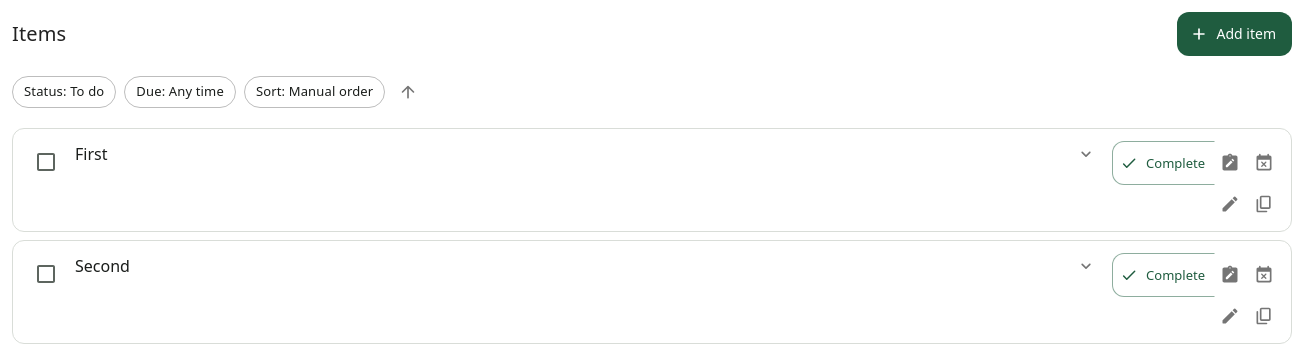
Test: ItemsSection › expanding one row collapses whichever was open
Click the button "First". click: (91, 154)
box: [71,142,1100,166]
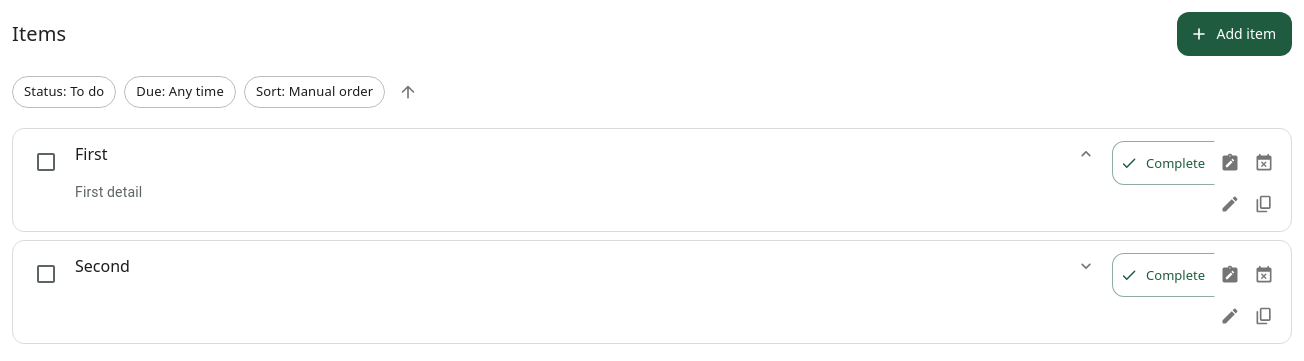
Now the text "First detail" is shown, box [75,184,142,200]
Click the button "Second". click: (102, 266)
box: [71,254,1100,278]
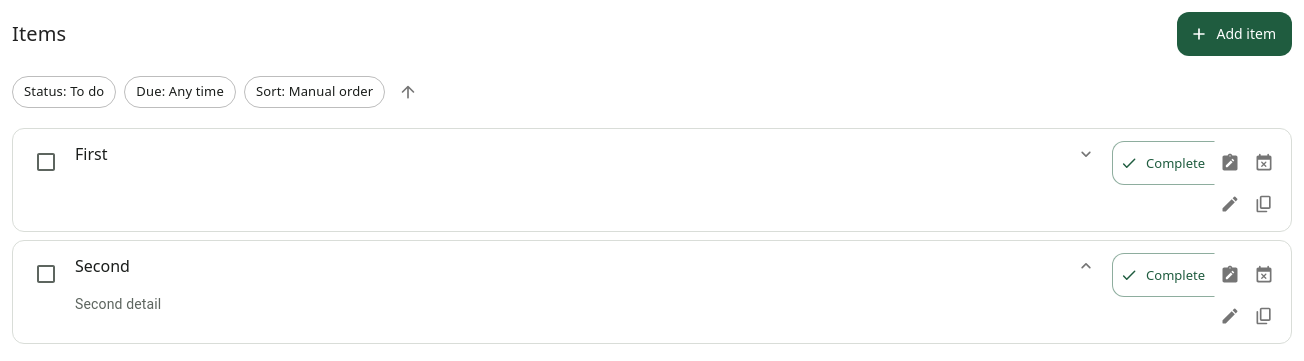
Now the text "Second detail" is shown, box [75,296,161,312]
Now the text "First detail" is gone
